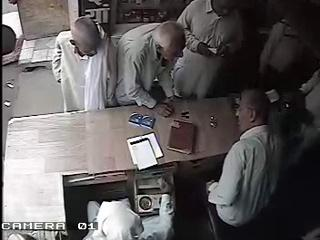Normal: (206, 88, 282, 240), (172, 0, 245, 100), (115, 20, 187, 118), (51, 16, 118, 112)
